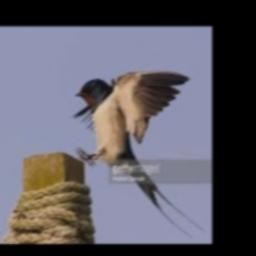Swallow: (73, 71, 206, 236)
